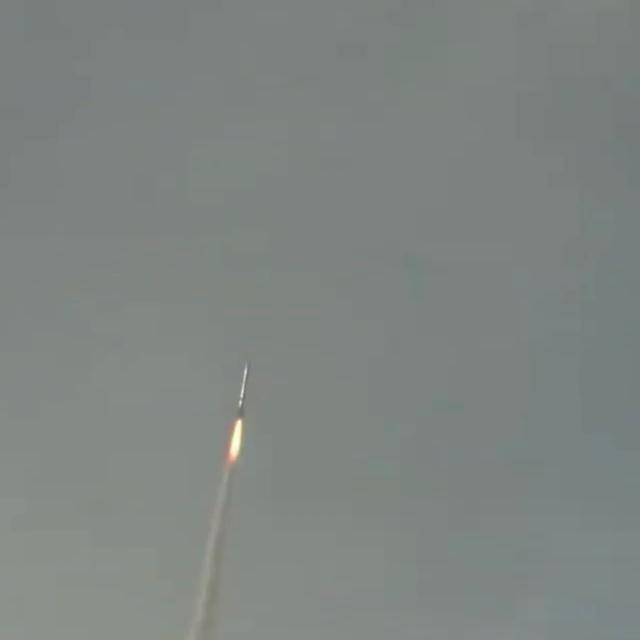rocket: (237, 364, 248, 416)
smoke_trail_with_rocket: (186, 365, 248, 640)
